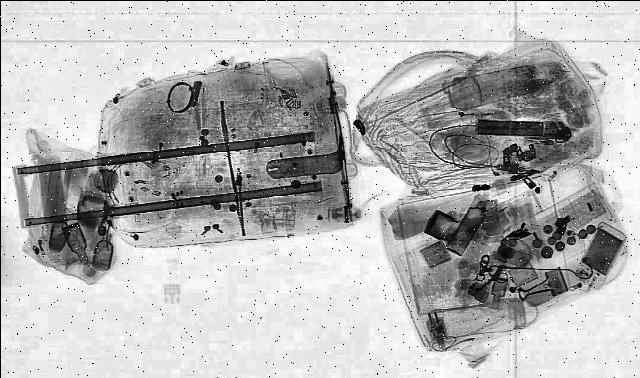Scissors: (461, 263, 514, 297)
